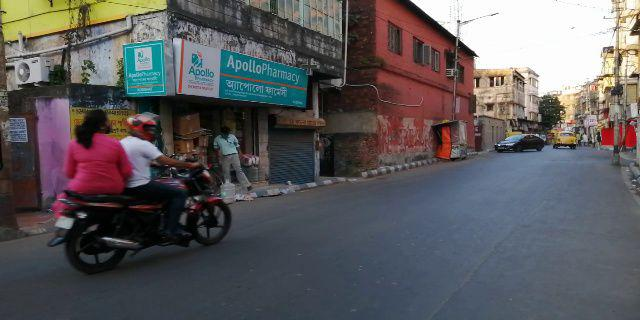Car: (492, 130, 547, 154), (553, 125, 580, 153)
Motorbike: (42, 101, 232, 276)
